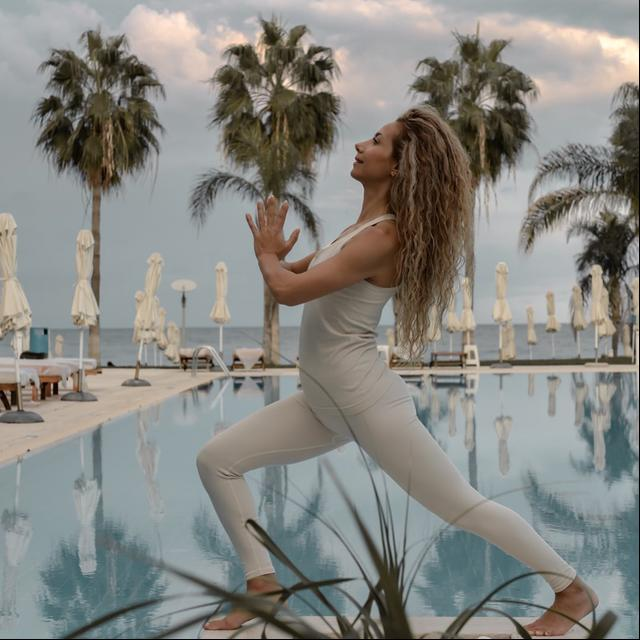Warrior_I: (169, 95, 601, 640)
